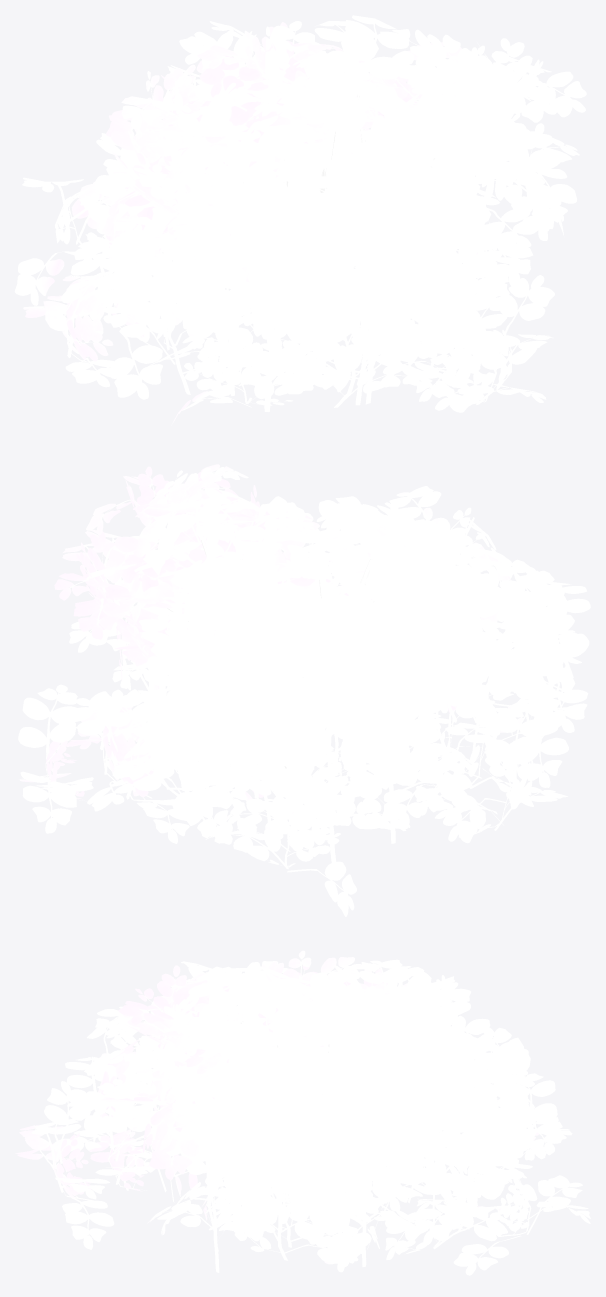
3 views of the same model, one above another, from view 1: azimuth 30°, elevation 25°; view 2: azimuth 150°, elevation 25°; view 3: azimuth 270°, elevation 25° (orthographic). The views are drawn at different scales.
Parts seen in each view (by area): view 1: SM_GF_Medium_Bush_01_A_Woods_LOD0; view 2: SM_GF_Medium_Bush_01_A_Woods_LOD0; view 3: SM_GF_Medium_Bush_01_A_Woods_LOD0.
Part boxes in pixels (x1,y1,x2,y2): SM_GF_Medium_Bush_01_A_Woods_LOD0: [14, 15, 586, 425]; SM_GF_Medium_Bush_01_A_Woods_LOD0: [18, 464, 590, 916]; SM_GF_Medium_Bush_01_A_Woods_LOD0: [15, 950, 590, 1275].
Size of the model in its own units: 1.74 by 1.08 by 2.03.
1 material, 1 textured.
